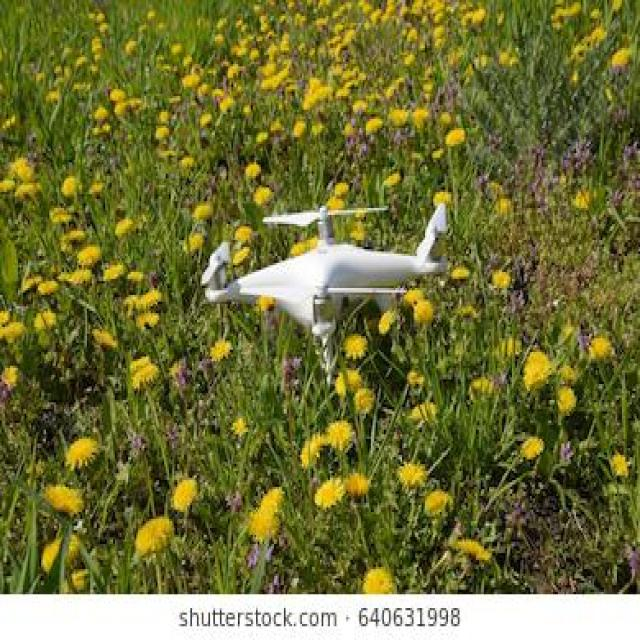drone: (177, 151, 465, 413)
